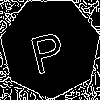P: (25, 22, 68, 75)
